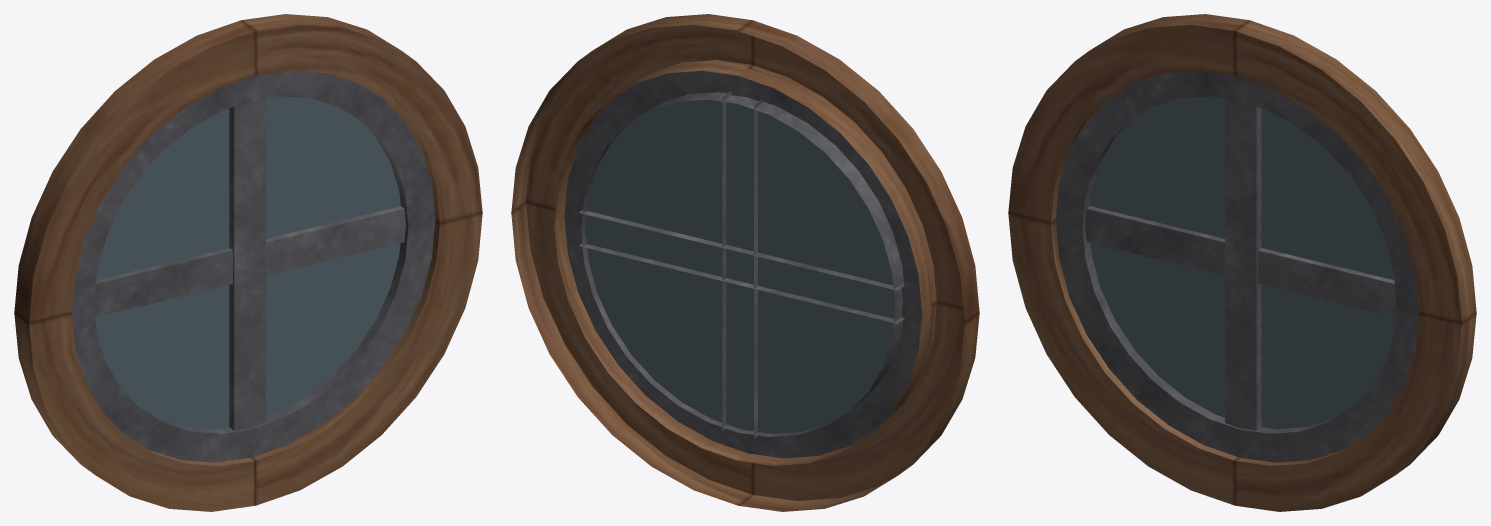
The model's file is sb_obj_outdoor028_window07.fbx.
3 views of the same model, side by side, from view 1: azimuth 30°, elevation 25°; view 2: azimuth 150°, elevation 25°; view 3: azimuth 330°, elevation 25° (orthographic).
Visible parts, largest first — view 1: 07_low.002; view 2: 07_low.002; view 3: 07_low.002.
Boxes of the visible parts, left/top/right/bottom form: 07_low.002: left=14, top=14, right=482, bottom=511; 07_low.002: left=511, top=14, right=979, bottom=511; 07_low.002: left=1008, top=14, right=1476, bottom=511.
Bounding box in the file's own units: 0.8202 × 0.8202 × 0.0461.
